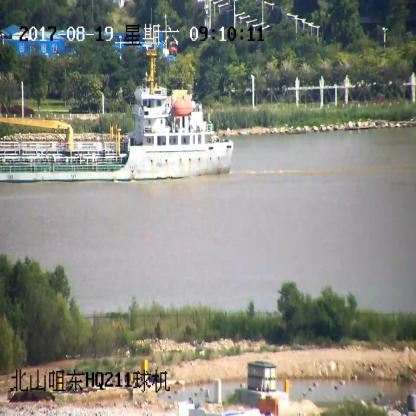Bulk Carrier: (0, 50, 235, 180)
